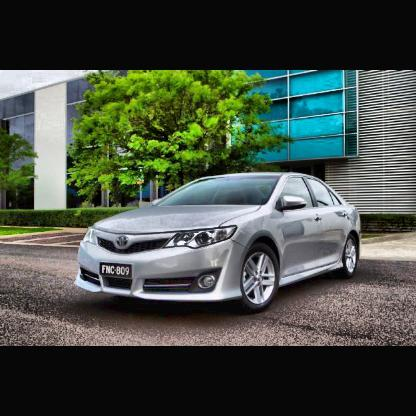Toyota Camry Sedan 2012: (76, 172, 363, 314)
